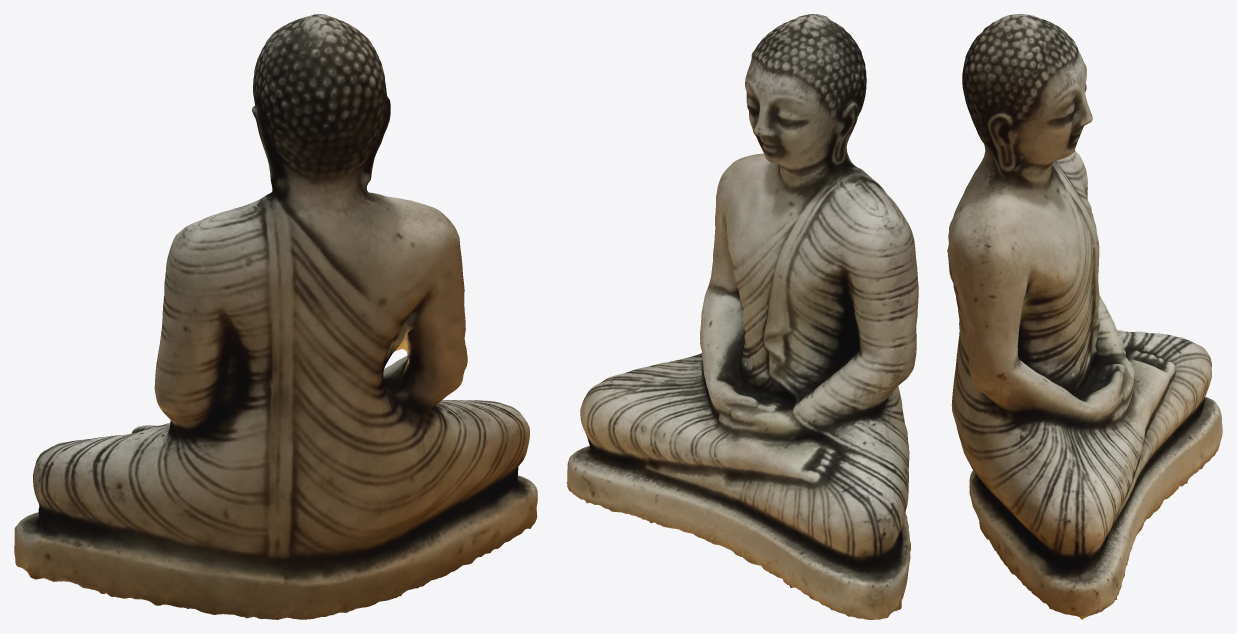
File: budha_statue.glb
3 renders of one model, left to right at view 1: azimuth 30°, elevation 25°; view 2: azimuth 150°, elevation 25°; view 3: azimuth 270°, elevation 25°, orthographic. The views are drawn at different scales.
Parts seen in each view (by area): view 1: model; view 2: model; view 3: model.
Part boxes in pixels (bbox=[...]): model: bbox=[14, 14, 537, 619]; model: bbox=[566, 14, 918, 619]; model: bbox=[947, 14, 1222, 619].
Size of the model in its own units: 0.1019 by 0.126 by 0.063.
1 material, 1 textured.
